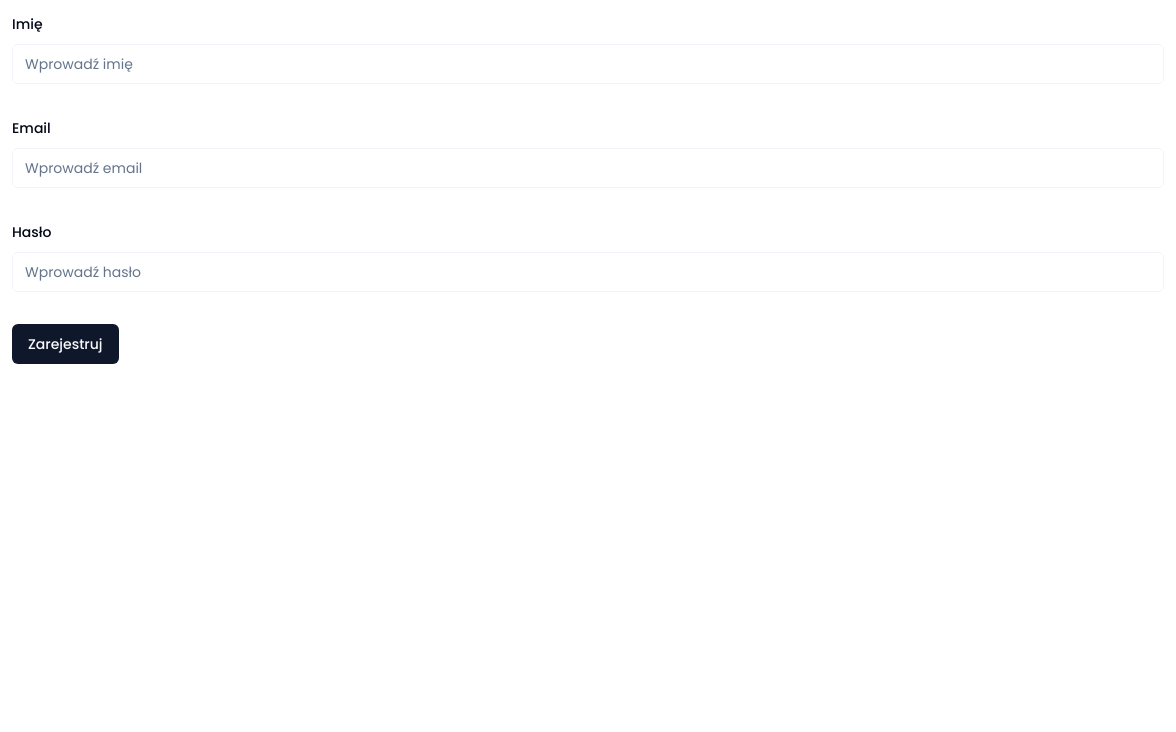
Test: RegisterForm › should show toast after successful register
Type "example_test" into the field with placeholder "Wprowadź imię" at [588, 64], box [12,44,1164,84]
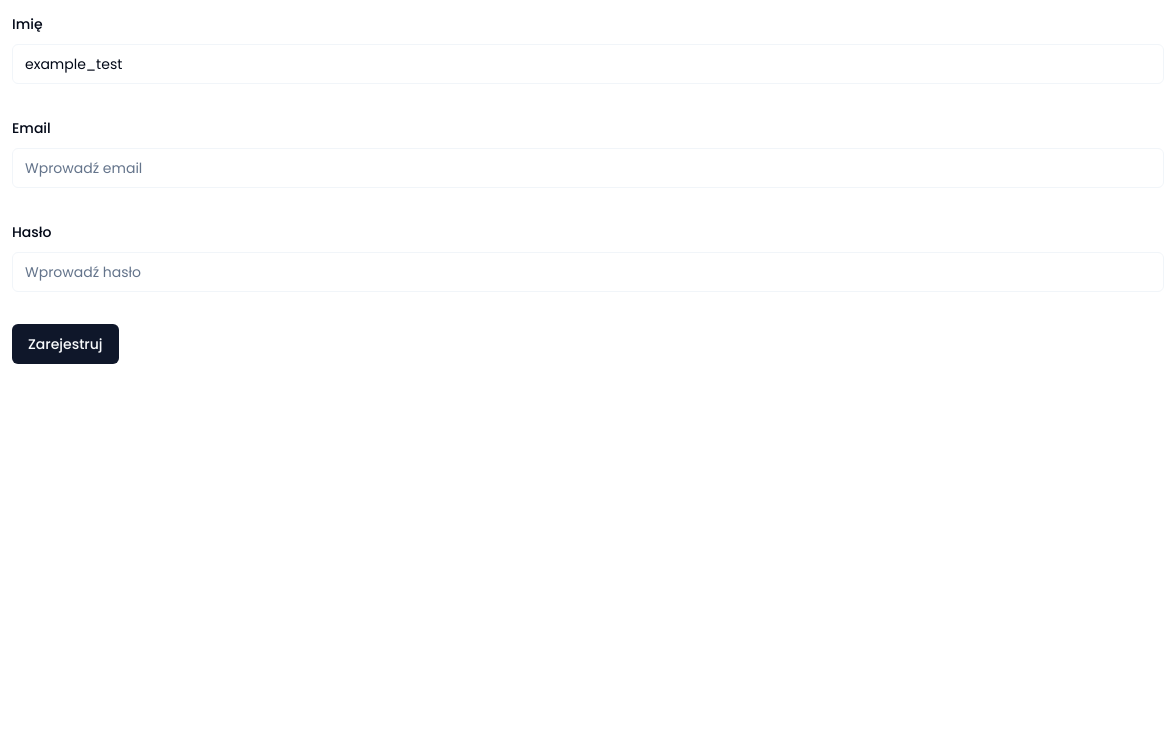
Type "example_test@com.pl" into the field with placeholder "Wprowadź email" at [588, 168], box [12,148,1164,188]
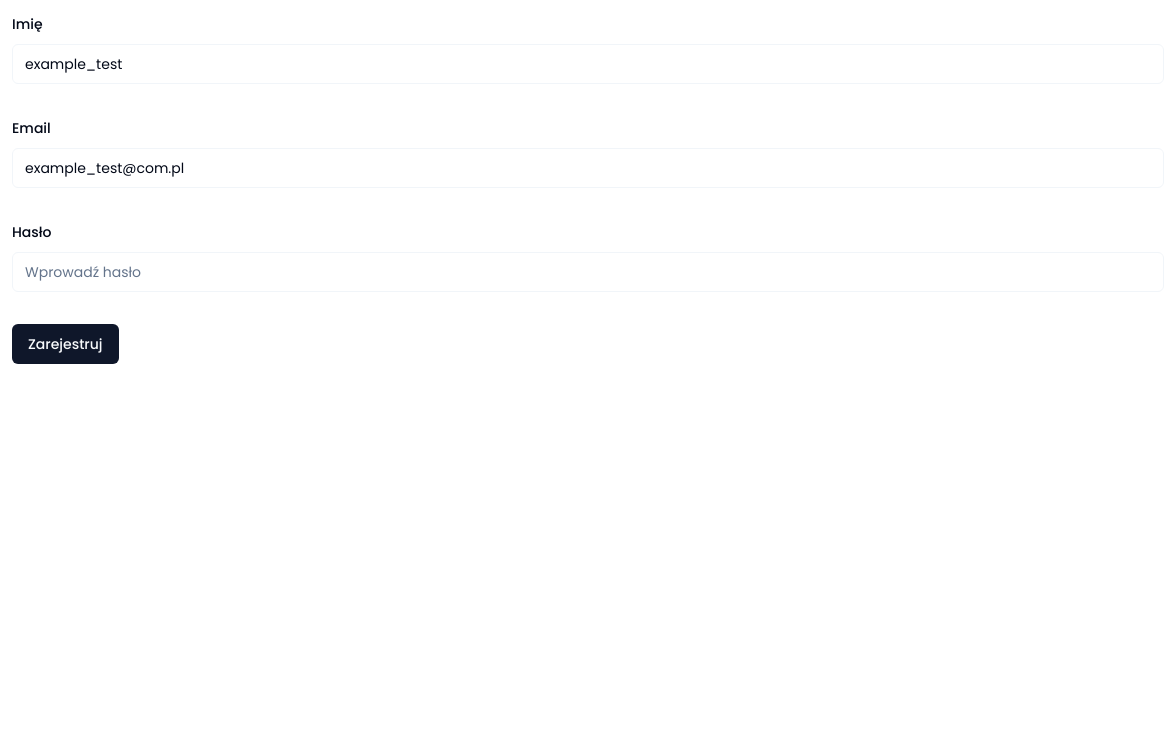
Type "123456" into the password field with placeholder "Wprowadź hasło" at [588, 272], box [12,252,1164,292]
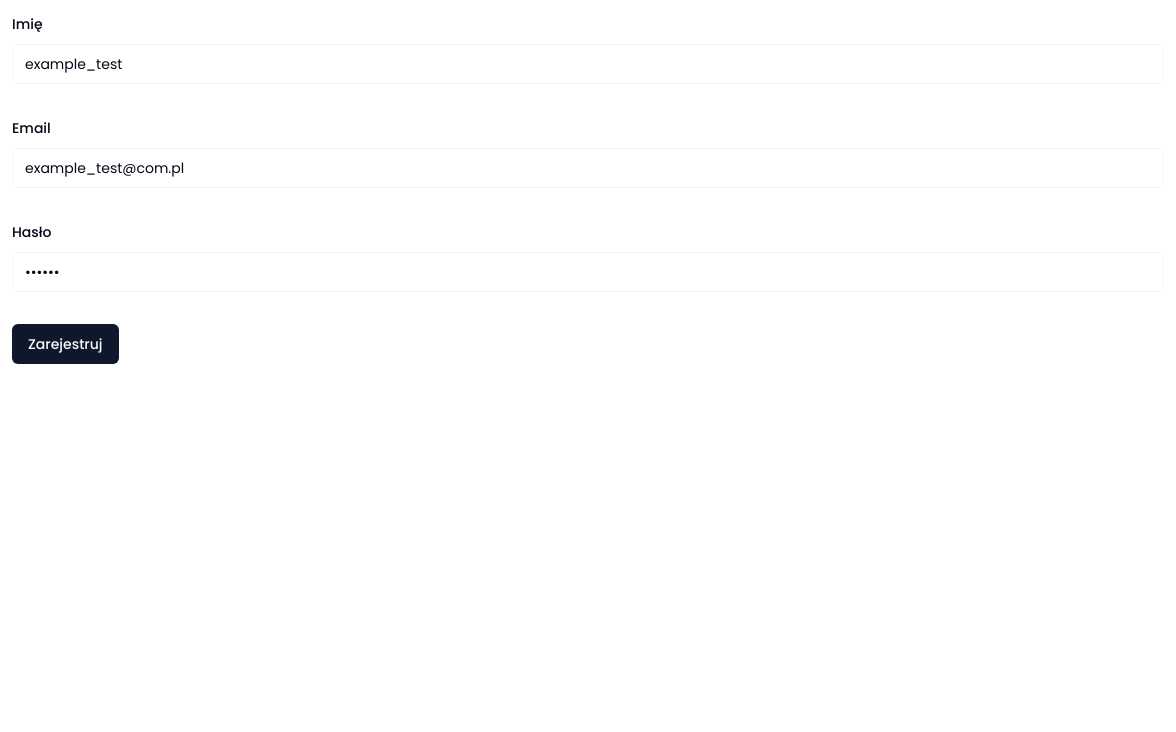
Click the button "Zarejestruj" at [65, 344], box [12,324,118,364]
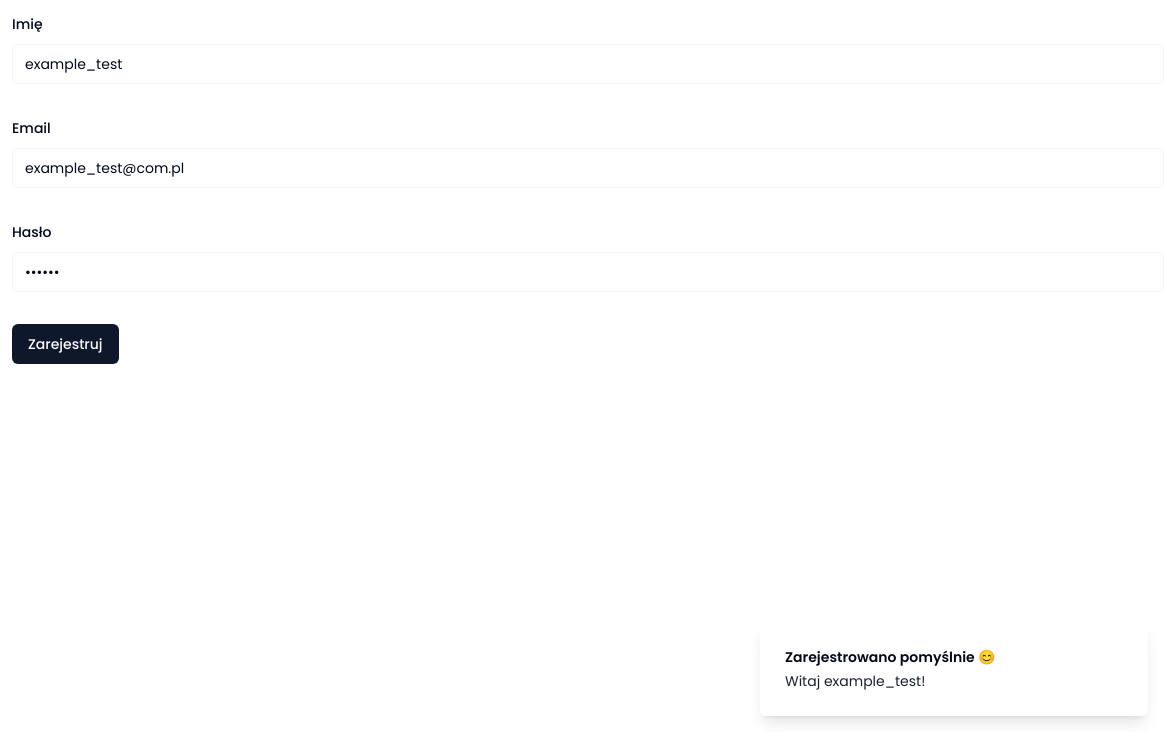
Expected: the text "Zarejestrowano pomyślnie 😊" is shown, [785,647,996,667]
